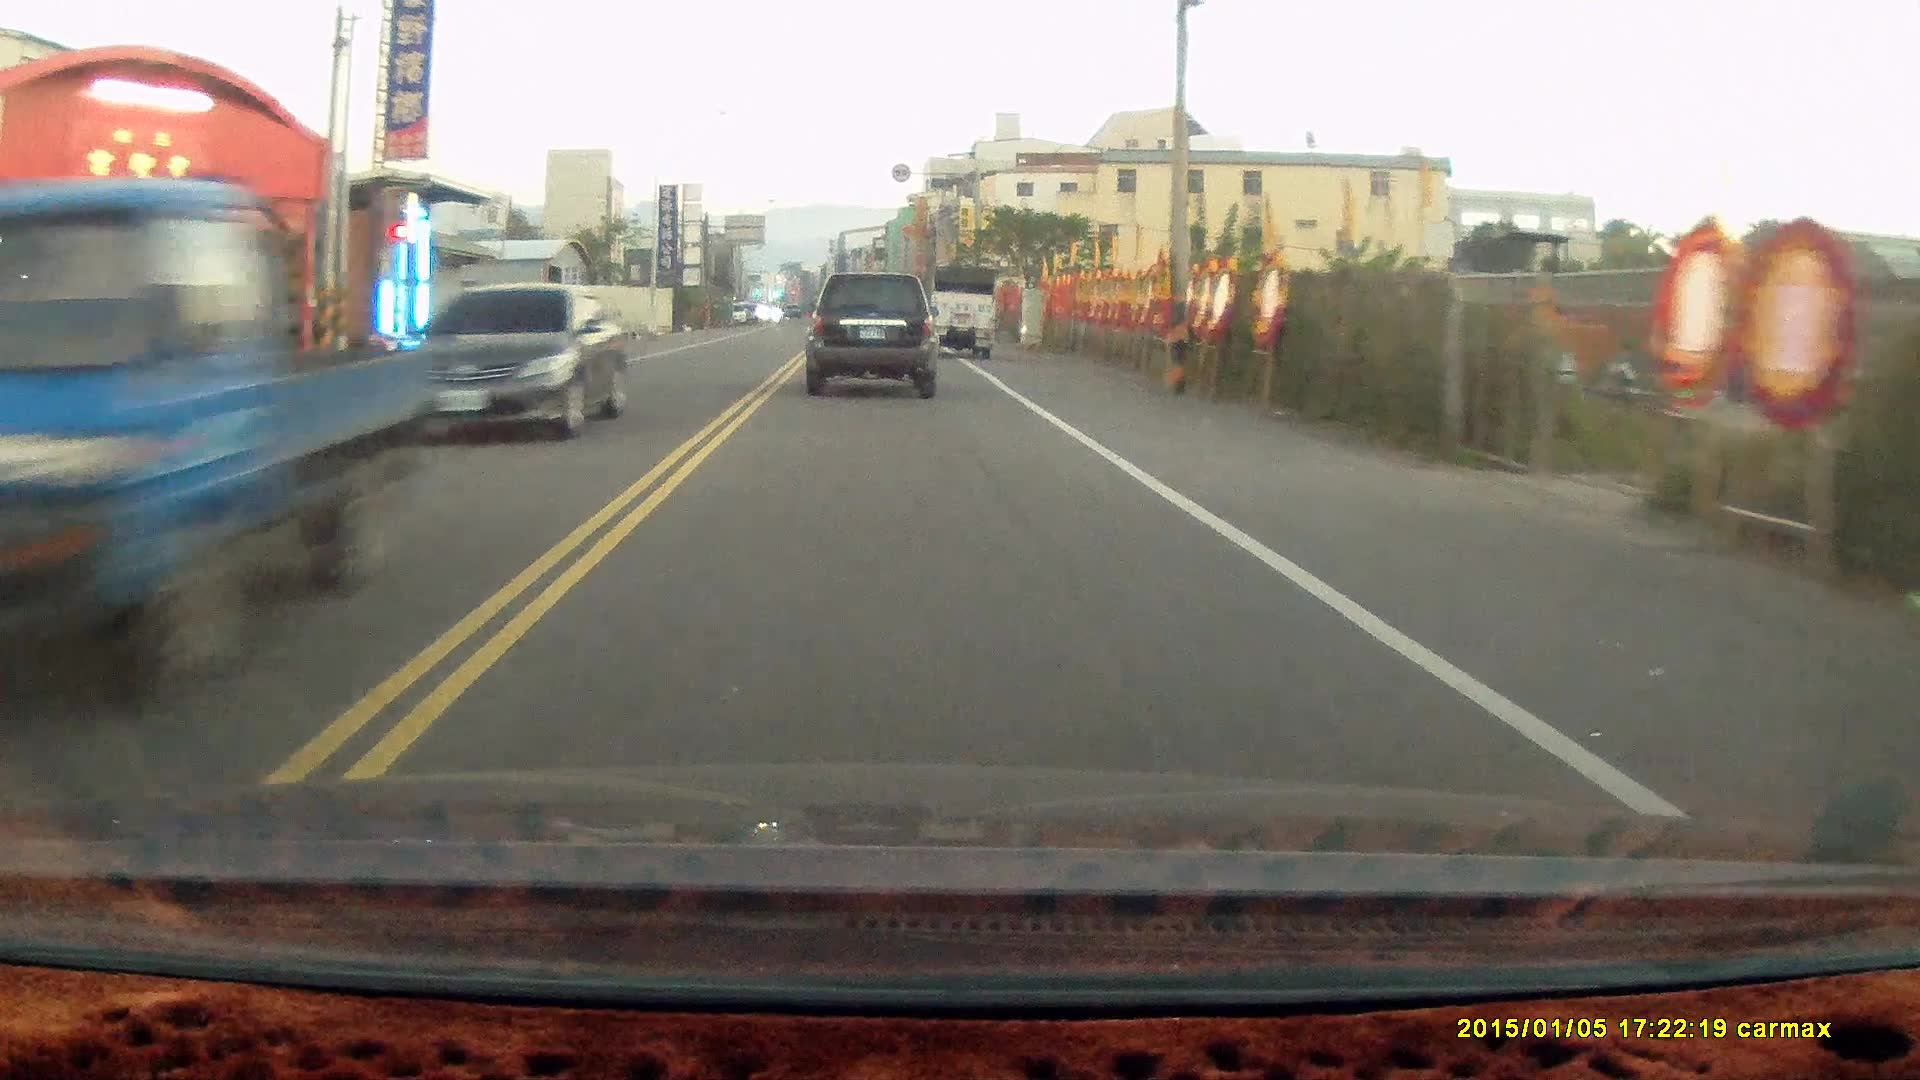vehicle: (1, 175, 438, 712), (407, 282, 632, 444), (802, 272, 938, 400), (927, 261, 1001, 355)
